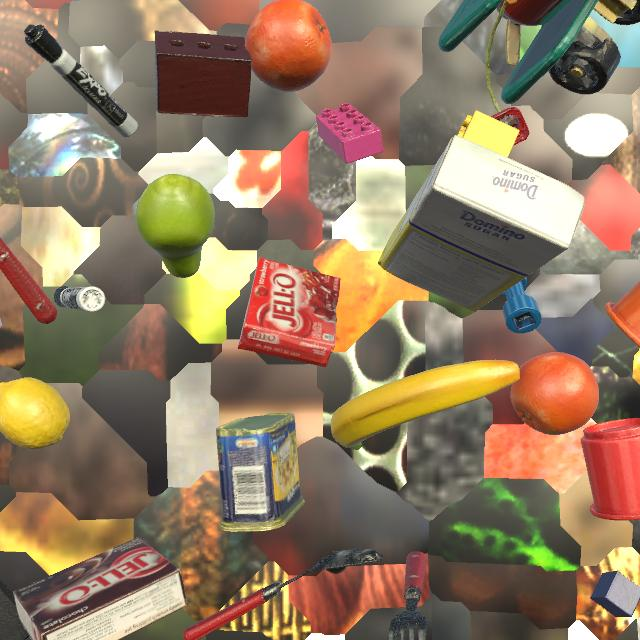ycb_004_sugar_box: (378, 135, 585, 312)
ycb_008_pudding_box: (13, 537, 187, 640)
ycb_009_gelatin_box: (238, 257, 341, 367), (0, 318, 3, 329)
ycb_010_potted_meat_can: (216, 413, 305, 532)
ycb_011_banana: (331, 360, 520, 450)
ycb_014_lemon: (0, 377, 70, 450)
ycb_016_pear: (135, 174, 215, 278)
ycb_017_orange: (245, 0, 332, 92), (510, 352, 599, 435)
